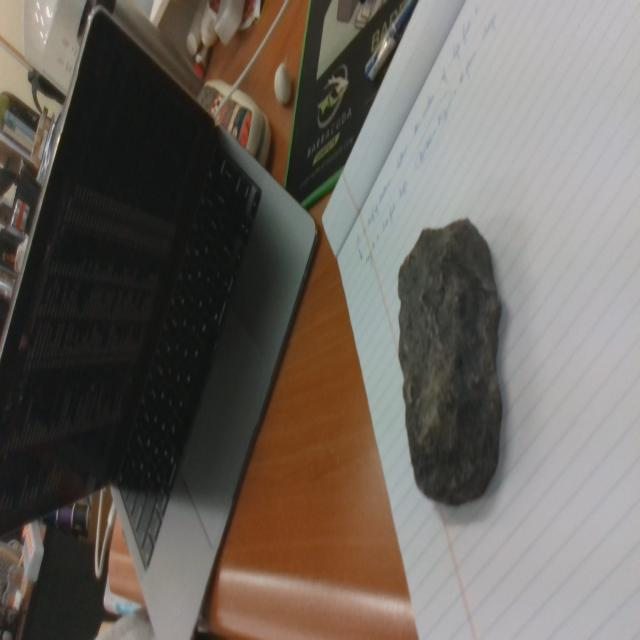stone: (397, 218, 503, 505)
